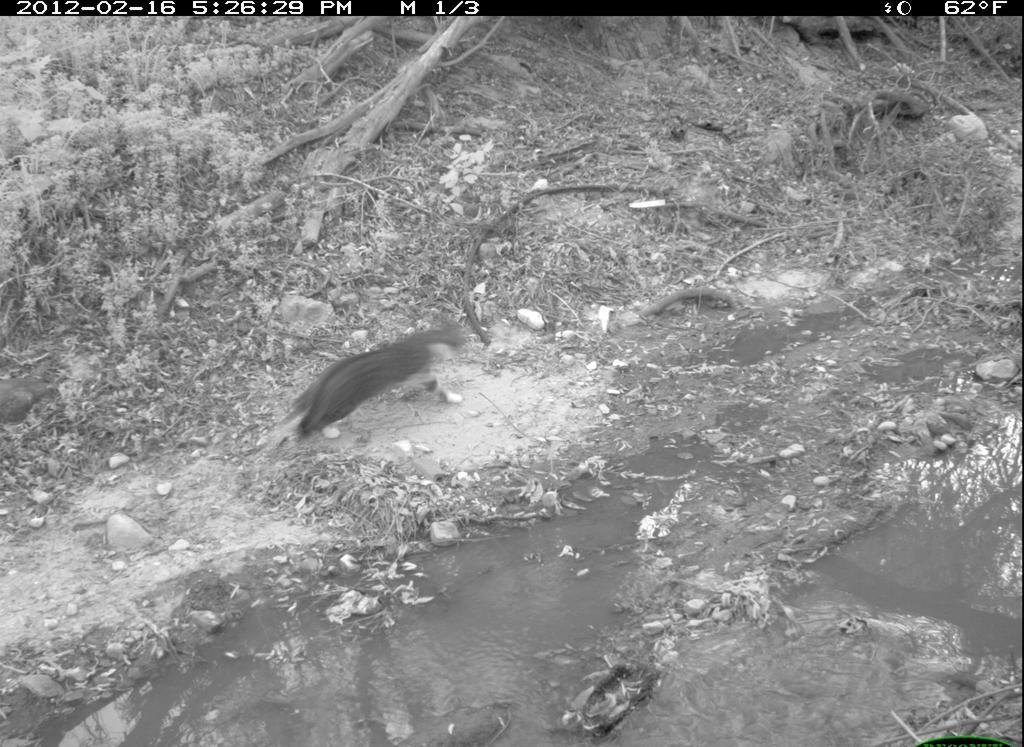cat: (273, 315, 498, 445)
